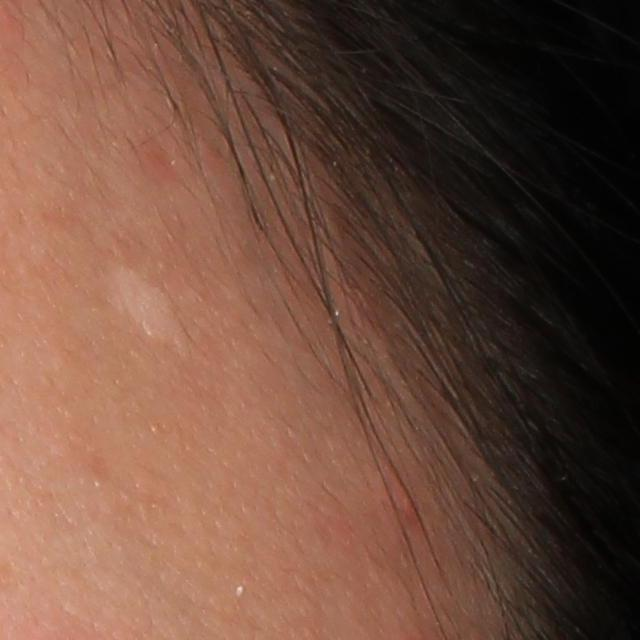other: (101, 256, 200, 364)
